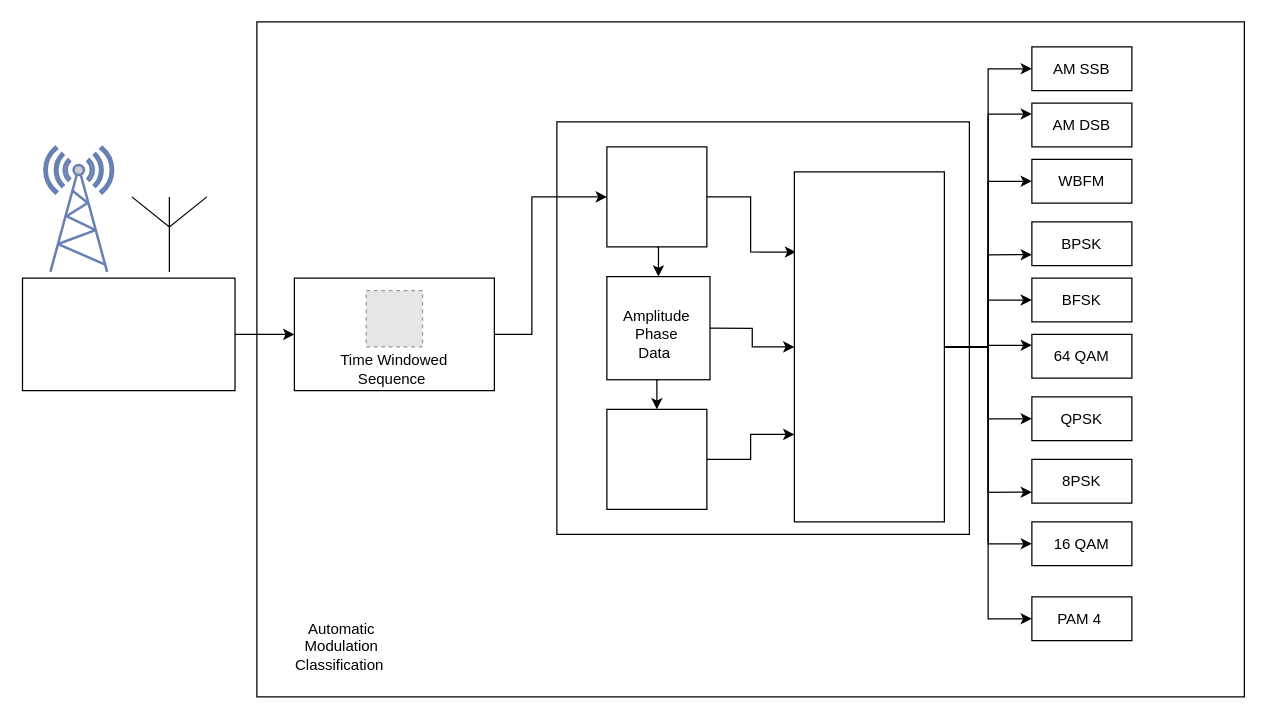
The diagram is 1266 pixels wide and 719 high, and some of its shapes have lost their labels. Grey dashed boxes stand in for pictures. The shapes that lost their labels are listed below. From the top down, each one's centre as x and y in pixels, then its label:
At pixel 656 196: "IQ Data".
At pixel 128 334: "Radio Front End/ User System".
At pixel 868 346: "Deep Neural Network".
At pixel 656 458: "Delta Amplitude Phase Data".
